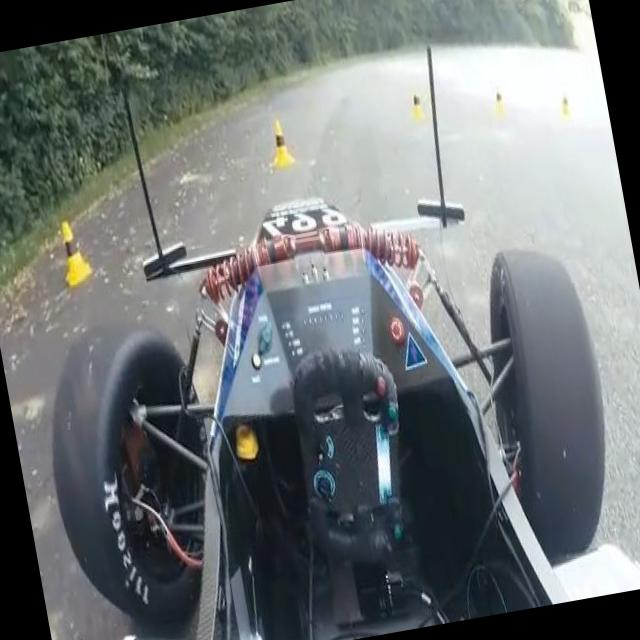Cono de seguridad: (54, 212, 96, 289), (260, 115, 294, 171), (407, 88, 427, 126), (490, 89, 510, 122), (560, 94, 574, 122)
vehiculo: (0, 0, 640, 640)
